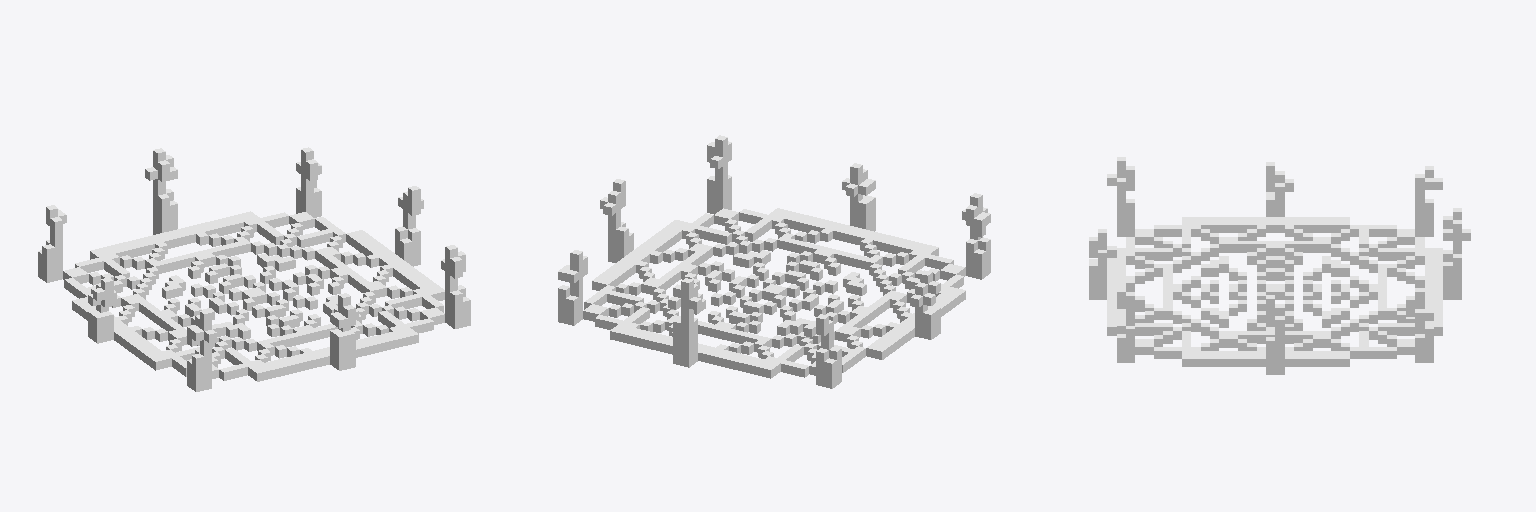
Rendered from MagicCircle.obj.
The picture shows the model from 3 angles: view 1: azimuth 30°, elevation 25°; view 2: azimuth 150°, elevation 25°; view 3: azimuth 270°, elevation 25°; orthographic projection.
Parts seen in each view (by area): view 1: object 1; view 2: object 1; view 3: object 1.
Part boxes in pixels (x1,y1,x2,y2): object 1: (38, 147, 470, 391); object 1: (558, 135, 990, 388); object 1: (1089, 157, 1470, 374).
Bounding box in the file's own units: 4.1 × 1 × 4.1.